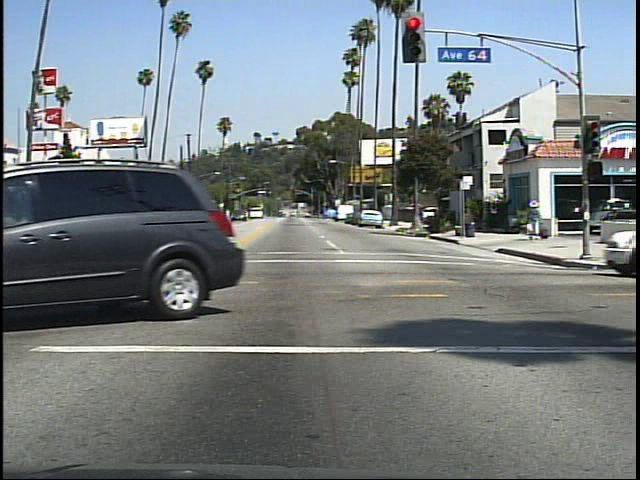person: (524, 195, 550, 248)
